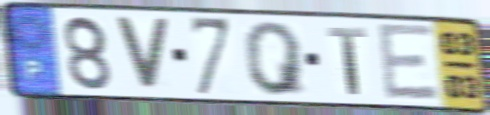7: (189, 14, 236, 97)
8: (62, 13, 113, 92)
E: (374, 20, 442, 104)
Q: (241, 20, 310, 98)
T: (324, 25, 369, 97)
V: (111, 14, 173, 94)
